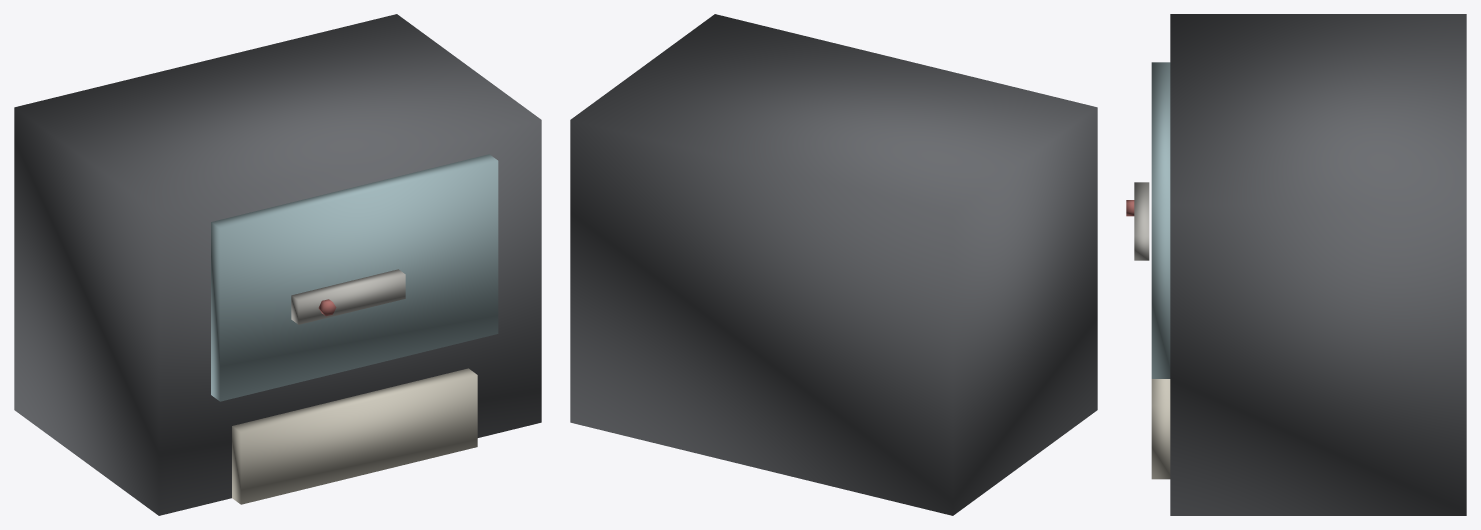
File: flat_monitor__reinforced.glb
The picture shows the model from 3 angles, left to right: view 1: azimuth 30°, elevation 25°; view 2: azimuth 150°, elevation 25°; view 3: azimuth 270°, elevation 25°; orthographic projection. The views are drawn at different scales.
Visible parts, largest first — view 1: world; view 2: world; view 3: world.
Boxes of the visible parts, x1,y1,x2,y2 form: world: (14,14,541,515); world: (570,14,1097,515); world: (1126,14,1466,515).
Size of the model in its own units: 0.5665 by 0.4284 by 0.4259.
